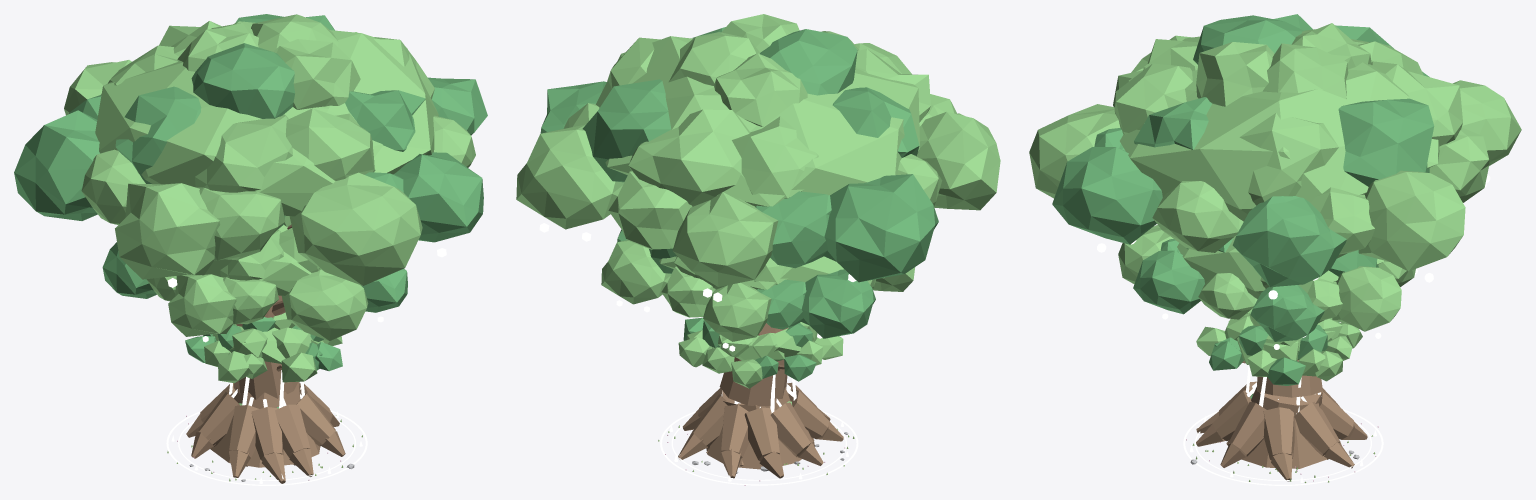
Rendered from AncientTree.fbx.
3 renders of one model, left to right at view 1: azimuth 30°, elevation 25°; view 2: azimuth 150°, elevation 25°; view 3: azimuth 270°, elevation 25°, orthographic.
Visible parts, largest first — view 1: Ancient4_Leaves, Ancient4_LeavesDark, Ancient3_Leaves, Ancient4_Bark, Ancient2_Leaves, Ancient3_LeavesDark, Ancient2_LeavesDark, AncientBase_Glow, Ancient4_Glow; view 2: Ancient4_Leaves, Ancient4_LeavesDark, Ancient4_Bark, Ancient3_Leaves, Ancient3_LeavesDark, Ancient2_Leaves, Ancient2_LeavesDark, AncientBase_Glow, Ancient4_Glow; view 3: Ancient4_Leaves, Ancient4_LeavesDark, Ancient4_Bark, Ancient3_Leaves, Ancient3_LeavesDark, Ancient2_Leaves, Ancient2_LeavesDark, AncientBase_Glow, Ancient4_Glow.
Part boxes in pixels (<box>): Ancient4_Leaves: <box>64,14,475,285</box>; Ancient4_LeavesDark: <box>14,14,487,242</box>; Ancient3_Leaves: <box>146,215,368,340</box>; Ancient4_Bark: <box>186,224,345,483</box>; Ancient2_Leaves: <box>204,312,342,383</box>; Ancient3_LeavesDark: <box>102,215,407,312</box>; Ancient2_LeavesDark: <box>185,317,342,371</box>; AncientBase_Glow: <box>166,410,367,485</box>; Ancient4_Glow: <box>167,248,446,478</box>; Ancient4_Leaves: <box>516,14,1000,286</box>; Ancient4_LeavesDark: <box>540,27,938,282</box>; Ancient4_Bark: <box>678,323,843,478</box>; Ancient3_Leaves: <box>601,240,915,341</box>; Ancient3_LeavesDark: <box>617,229,875,338</box>; Ancient2_Leaves: <box>678,322,843,388</box>; Ancient2_LeavesDark: <box>683,317,816,381</box>; AncientBase_Glow: <box>660,411,858,485</box>; Ancient4_Glow: <box>539,209,963,455</box>; Ancient4_Leaves: <box>1029,23,1521,271</box>; Ancient4_LeavesDark: <box>1052,14,1434,287</box>; Ancient4_Bark: <box>1196,360,1367,481</box>; Ancient3_Leaves: <box>1118,225,1415,331</box>; Ancient3_LeavesDark: <box>1133,238,1378,341</box>; Ancient2_Leaves: <box>1196,308,1362,381</box>; Ancient2_LeavesDark: <box>1209,322,1339,385</box>; AncientBase_Glow: <box>1183,409,1383,485</box>; Ancient4_Glow: <box>1097,174,1490,463</box>.
Bounding box in the file's own units: 378 × 354 × 384.
